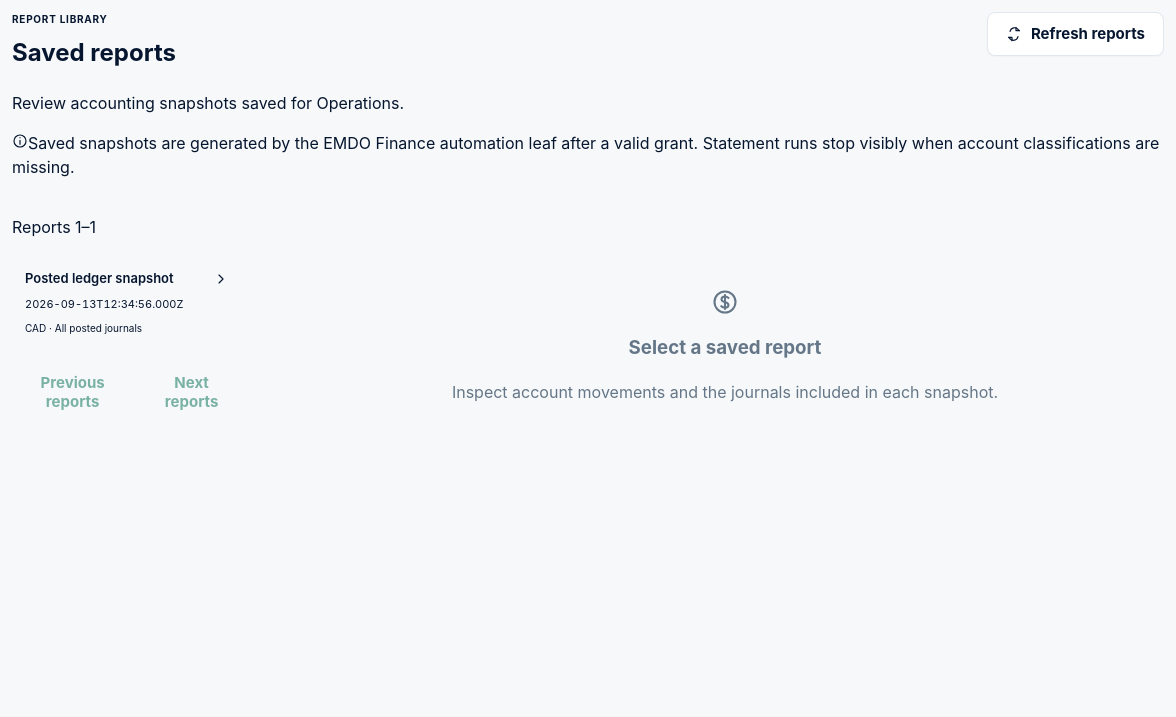
Saved accounting report library › clears old report data and blocks download when access revalidation returns 403
What coordinates should you click on to do the following:
click the button "Posted ledger snapshot"
I would click on:
 (127, 302)
Its box is [12,255,242,350].
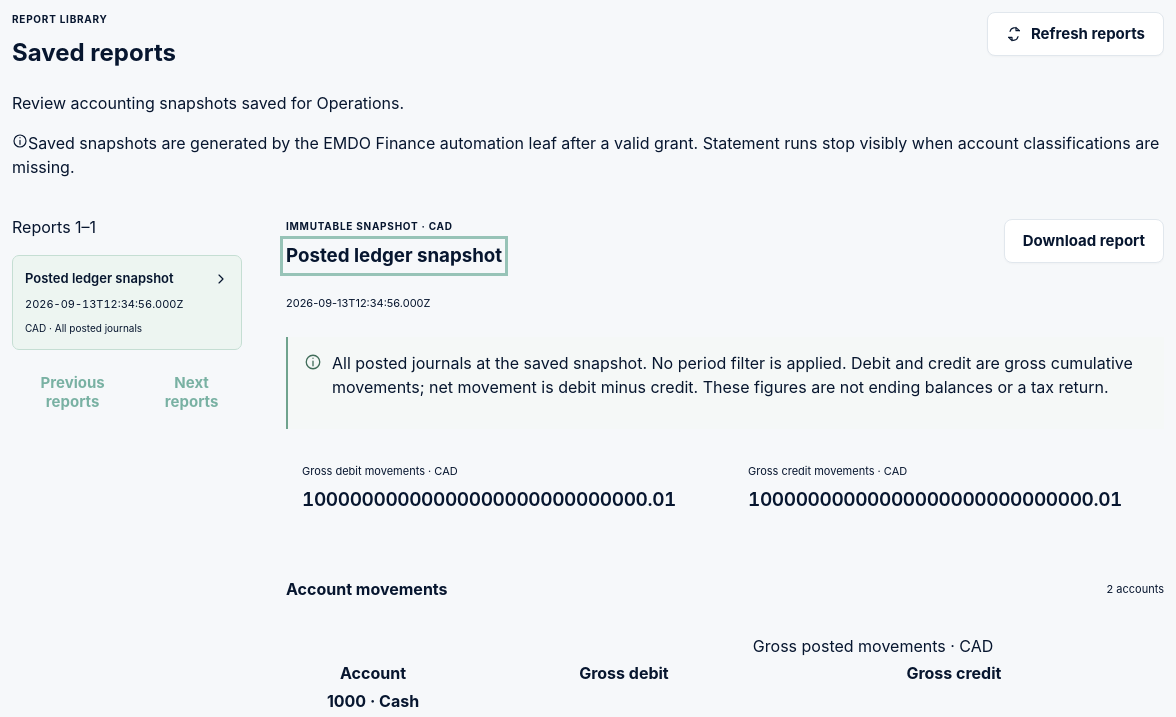
What coordinates should you click on to do the following:
click the button "Download report"
I would click on:
 (1084, 241)
Its box is [1004,219,1164,263].
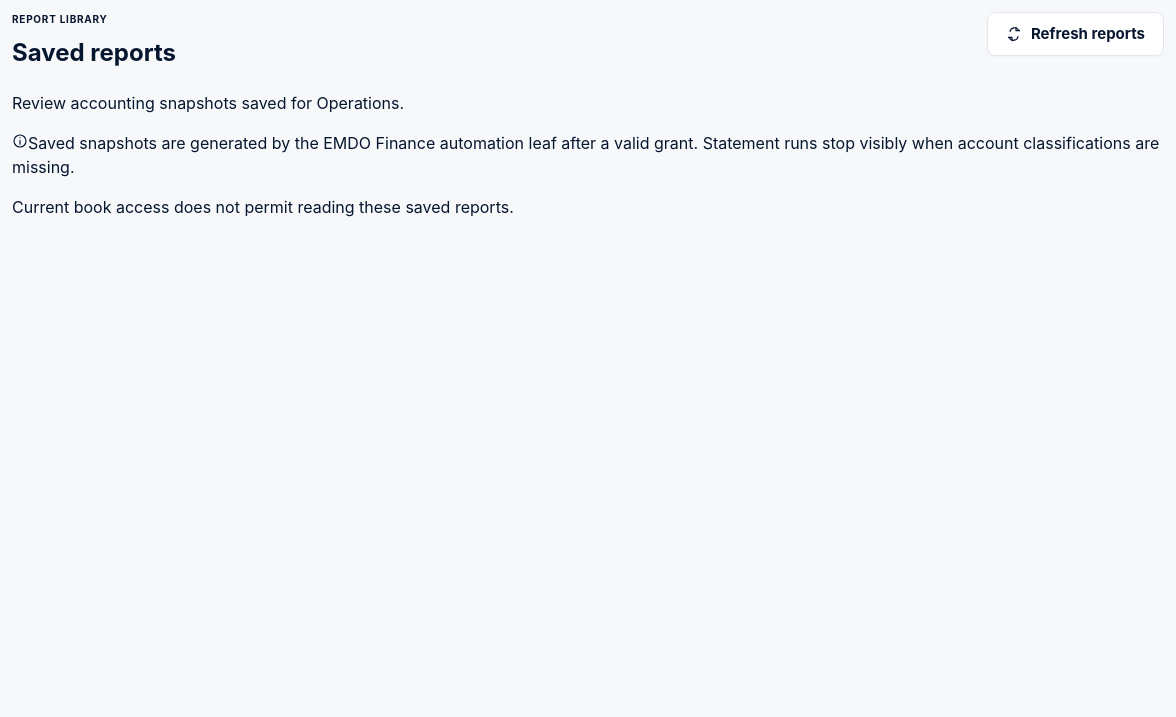
Expected: the message shows "Current book access", [12,197,514,217]
Expected: the button "Posted ledger snapshot" is gone
